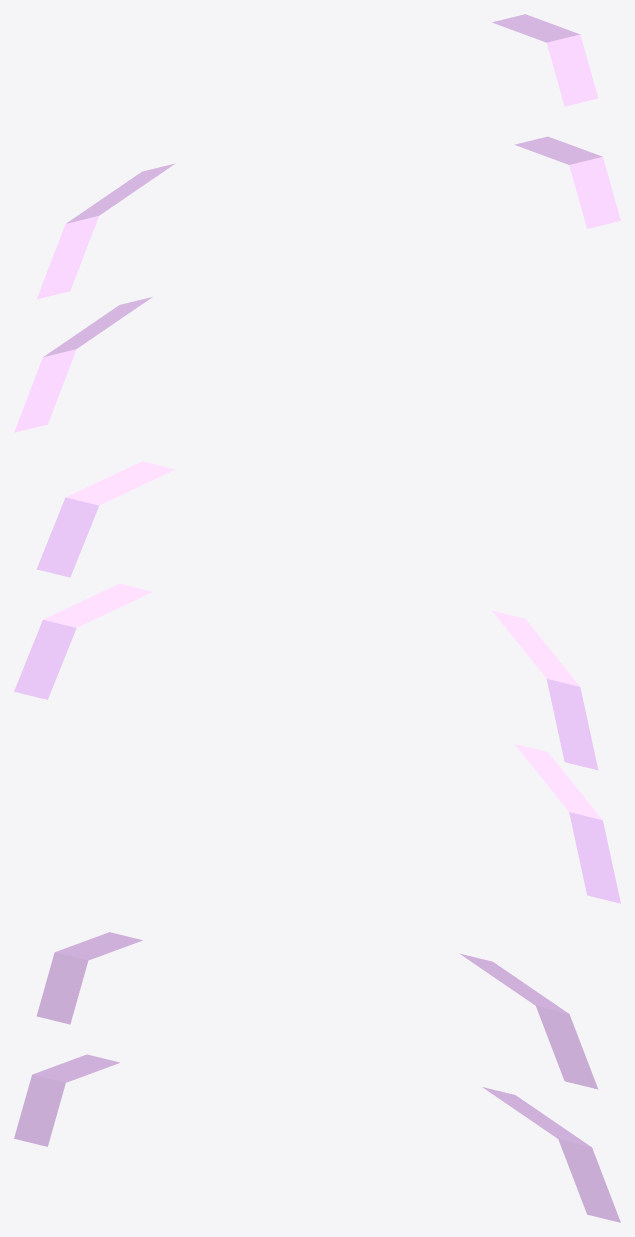
File: VESPER_AWAKENED_BUILD.glb
3 views of the same model, one above another, from view 1: azimuth 30°, elevation 25°; view 2: azimuth 150°, elevation 25°; view 3: azimuth 330°, elevation 25° (orthographic).
Visible parts, largest first — view 1: ANI08C_vesper-nyx_1_dislocation3, ANI08C_vesper-nyx_1_dislocation1, ANI08C_vesper-nyx_1_dislocation0, ANI08C_vesper-nyx_1_dislocation2; view 2: ANI08C_vesper-nyx_1_dislocation3, ANI08C_vesper-nyx_1_dislocation1, ANI08C_vesper-nyx_1_dislocation2, ANI08C_vesper-nyx_1_dislocation0; view 3: ANI08C_vesper-nyx_1_dislocation0, ANI08C_vesper-nyx_1_dislocation2, ANI08C_vesper-nyx_1_dislocation3, ANI08C_vesper-nyx_1_dislocation1.
Part boxes in pixels (<box>): ANI08C_vesper-nyx_1_dislocation3: <box>14,297,152,432</box>; ANI08C_vesper-nyx_1_dislocation1: <box>37,163,175,299</box>; ANI08C_vesper-nyx_1_dislocation0: <box>492,14,598,106</box>; ANI08C_vesper-nyx_1_dislocation2: <box>514,136,620,228</box>; ANI08C_vesper-nyx_1_dislocation3: <box>514,744,620,903</box>; ANI08C_vesper-nyx_1_dislocation1: <box>492,610,598,770</box>; ANI08C_vesper-nyx_1_dislocation2: <box>14,583,152,699</box>; ANI08C_vesper-nyx_1_dislocation0: <box>37,461,175,577</box>; ANI08C_vesper-nyx_1_dislocation0: <box>459,953,598,1089</box>; ANI08C_vesper-nyx_1_dislocation2: <box>482,1087,620,1222</box>; ANI08C_vesper-nyx_1_dislocation3: <box>14,1054,119,1146</box>; ANI08C_vesper-nyx_1_dislocation1: <box>36,932,142,1024</box>.
Size of the model in its own units: 0.646 by 0.315 by 0.03.
